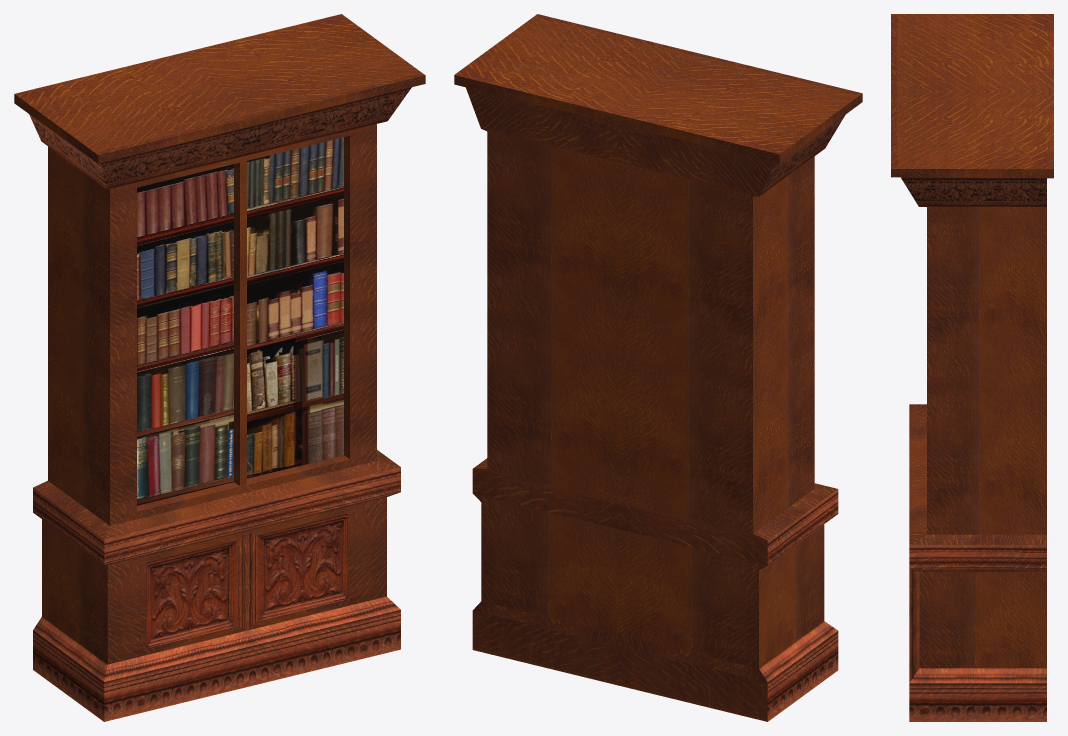
The model's file is Bookcase1.fbx.
3 views of the same model, side by side, from view 1: azimuth 30°, elevation 25°; view 2: azimuth 150°, elevation 25°; view 3: azimuth 270°, elevation 25° (orthographic). The views are drawn at different scales.
Parts seen in each view (by area): view 1: Bookcase2.001; view 2: Bookcase2.001; view 3: Bookcase2.001.
Boxes of the visible parts, bbox=[...] form: Bookcase2.001: bbox=[14, 14, 425, 721]; Bookcase2.001: bbox=[454, 14, 862, 721]; Bookcase2.001: bbox=[891, 14, 1053, 721].
Size of the model in its own units: 114 by 191 by 50.36.
